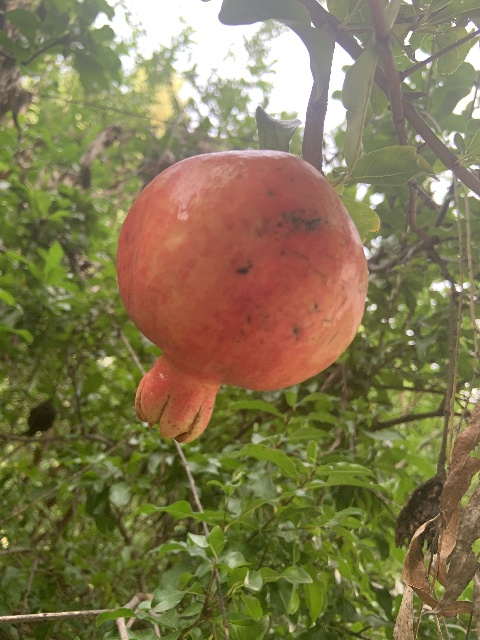ripe: (116, 150, 369, 442)
